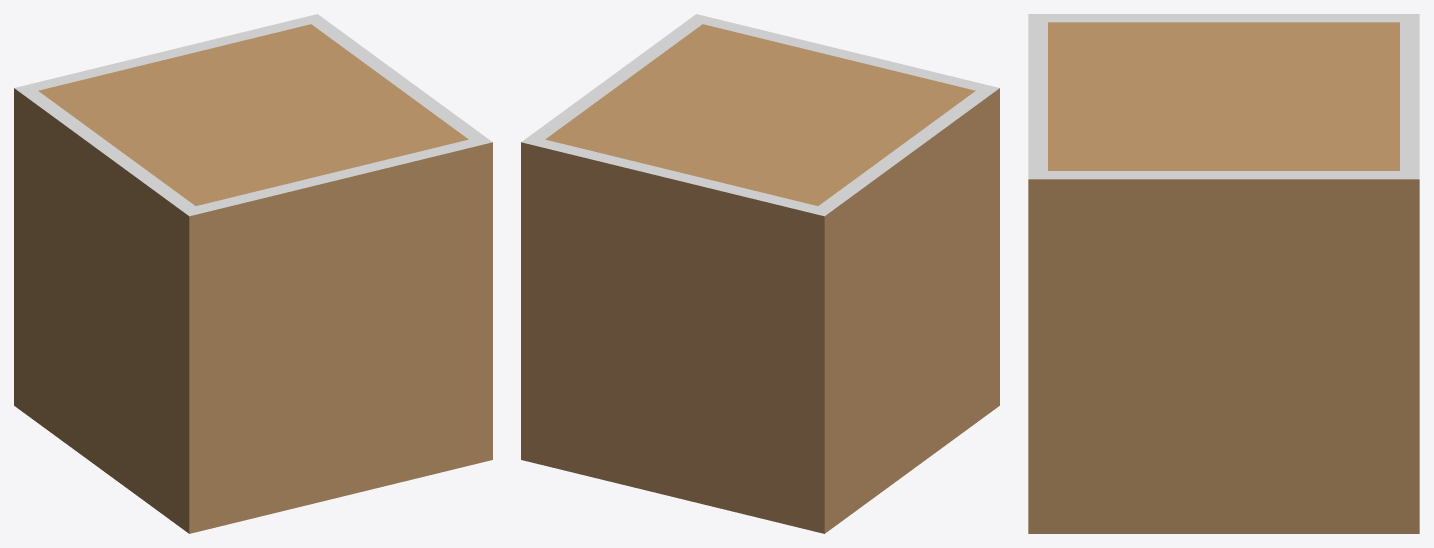
The model's file is Cube - 0.1 Highlight.fbx.
3 views of the same model, side by side, from view 1: azimuth 30°, elevation 25°; view 2: azimuth 150°, elevation 25°; view 3: azimuth 270°, elevation 25° (orthographic). The views are drawn at different scales.
Parts seen in each view (by area): view 1: Cube; view 2: Cube; view 3: Cube.
Boxes of the visible parts, <box> form: Cube: <box>14,14,492,533</box>; Cube: <box>521,14,999,533</box>; Cube: <box>1028,14,1419,533</box>.
Bounding box in the file's own units: 1 × 1 × 1.
